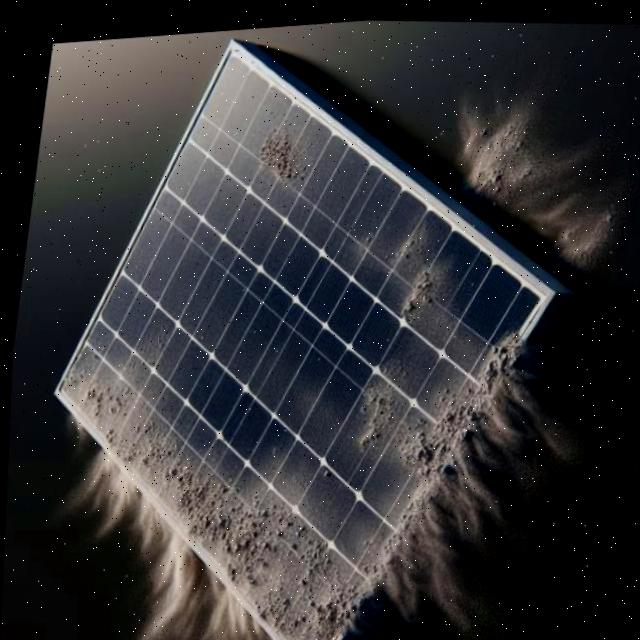Anomaly Solar Panel: (4, 42, 578, 640)
Surface Contaminant: (43, 111, 593, 640), (243, 115, 315, 184)
